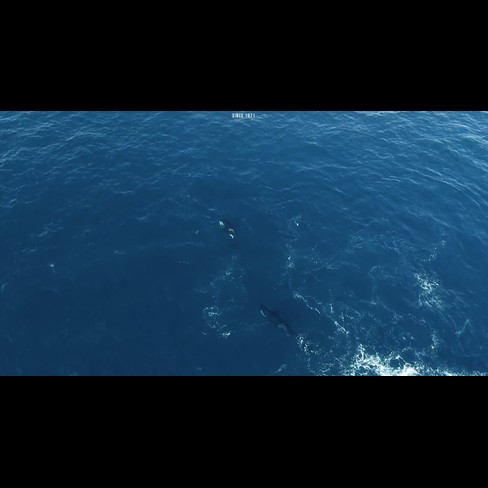orca: (254, 287, 307, 357), (210, 202, 241, 248)
